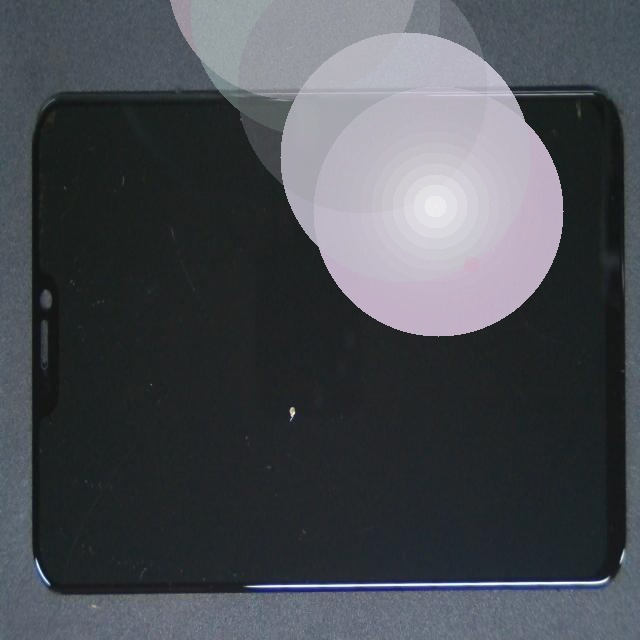stain: (169, 152, 429, 571)
